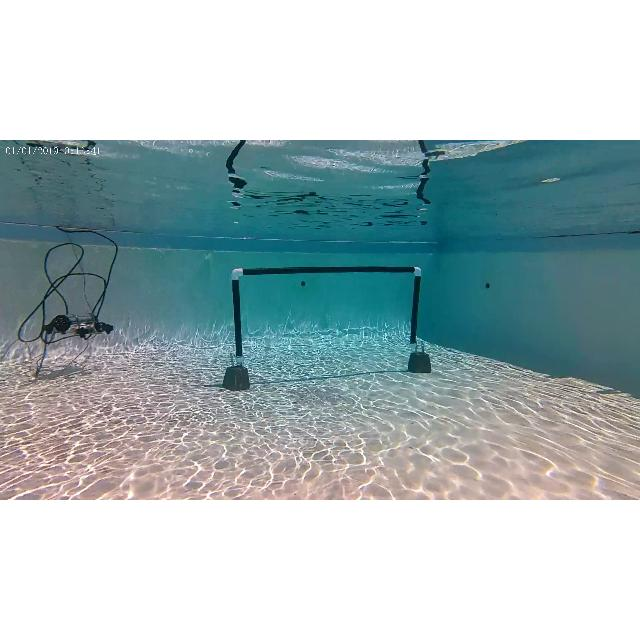prequal gate: (232, 266, 418, 348)
prequal gate leg l: (228, 269, 246, 361)
prequal gate leg r: (411, 266, 424, 352)
